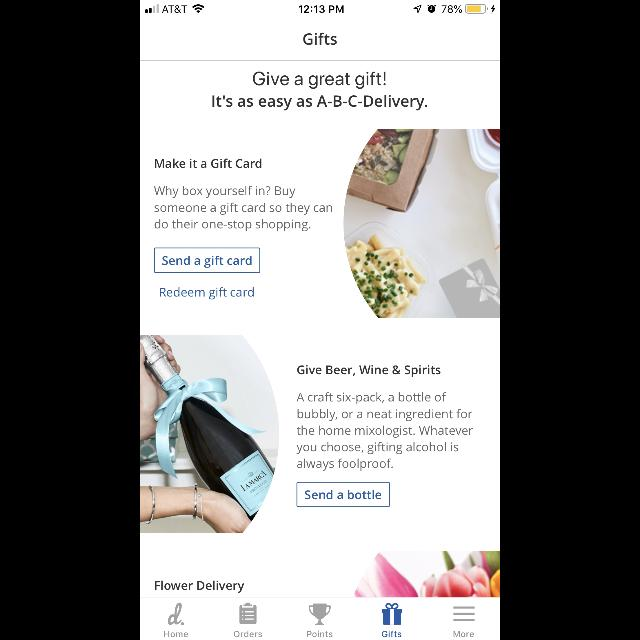icon: (382, 603, 402, 625), (240, 602, 256, 624), (453, 606, 475, 622)
image: (344, 128, 500, 318), (140, 335, 280, 533), (352, 551, 500, 597), (309, 603, 331, 625), (168, 602, 184, 626)
text: (297, 392, 473, 471), (212, 72, 428, 110), (154, 186, 332, 232), (298, 365, 440, 377), (160, 286, 254, 300), (156, 158, 262, 168), (156, 581, 244, 593), (303, 32, 337, 46), (308, 630, 332, 638), (234, 631, 262, 637), (382, 630, 402, 638), (164, 631, 188, 637), (454, 631, 474, 637)
textbutton: (155, 247, 261, 273), (296, 482, 389, 508)
uppertaskbar: (140, 0, 500, 14)
